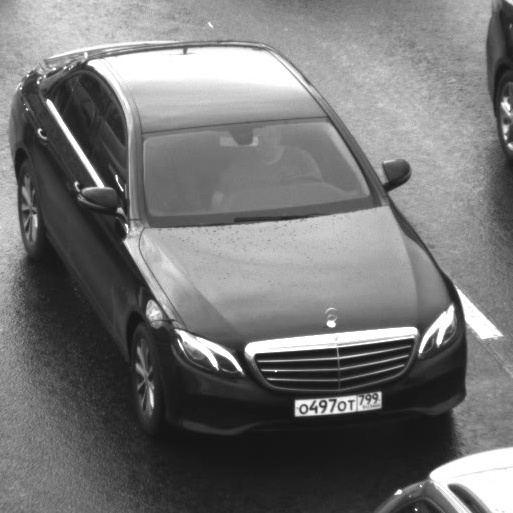plate: (282, 378, 391, 424)
